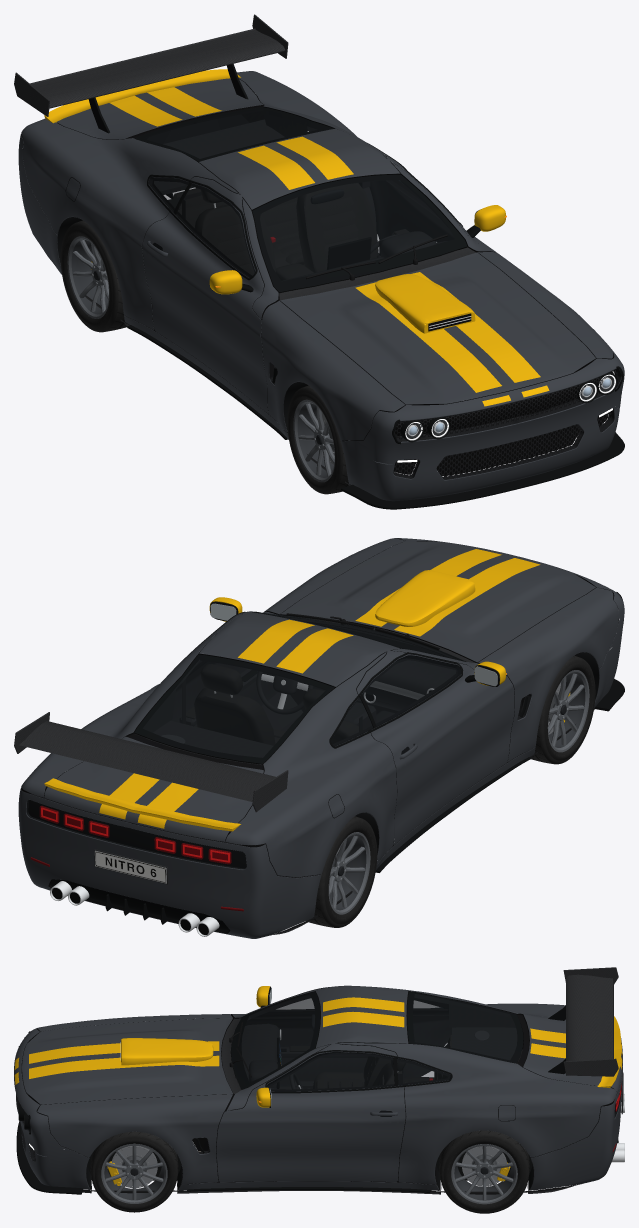
Rendered from american-v8-supercar.glb.
3 views of the same model, one above another, from view 1: azimuth 30°, elevation 25°; view 2: azimuth 150°, elevation 25°; view 3: azimuth 270°, elevation 25° (orthographic). The views are drawn at different scales.
Visible parts, largest first — view 1: Body, Wheel_RR, Wheel_FR; view 2: Body, Wheel_RR, Wheel_FR, Steering_Wheel; view 3: Body, Wheel_RL, Wheel_FL.
Part boxes in pixels (<box>): Body: <box>14,14,624,509</box>; Wheel_RR: <box>60,220,129,332</box>; Wheel_FR: <box>287,385,350,494</box>; Body: <box>14,538,624,938</box>; Wheel_RR: <box>307,816,377,927</box>; Wheel_FR: <box>530,655,595,764</box>; Steering_Wheel: <box>256,671,313,714</box>; Body: <box>14,967,624,1194</box>; Wheel_RL: <box>439,1130,529,1213</box>; Wheel_FL: <box>90,1131,178,1212</box>.
Size of the model in its own units: 2.11 by 1.37 by 4.87.
60 materials, 12 textured.
